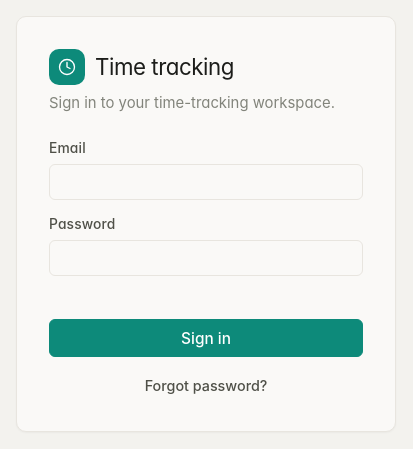
Test: Login › shows forgot-password view when clicking Forgot password
Step 1. Click the button "Forgot password?" → point(206, 385), box [134,371,278,399]
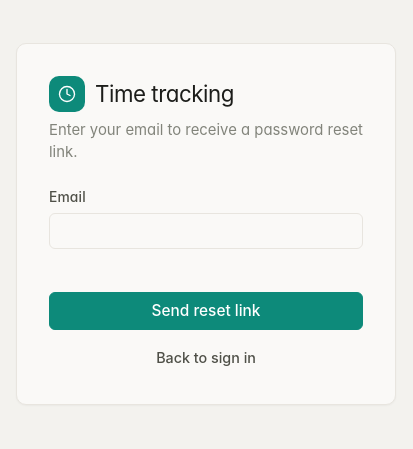
Now the text "Send reset link" is shown, box [49,292,363,330]
